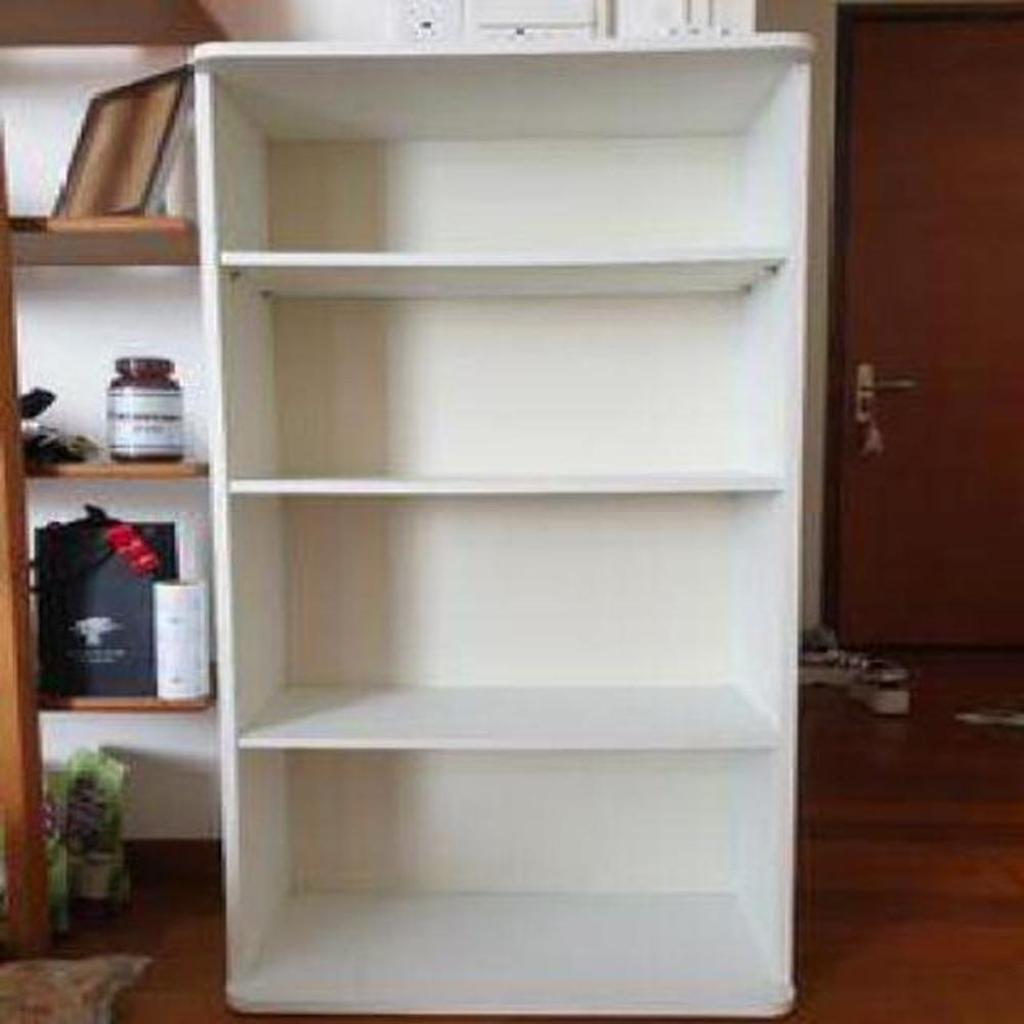lamp: (188, 28, 819, 1020)
